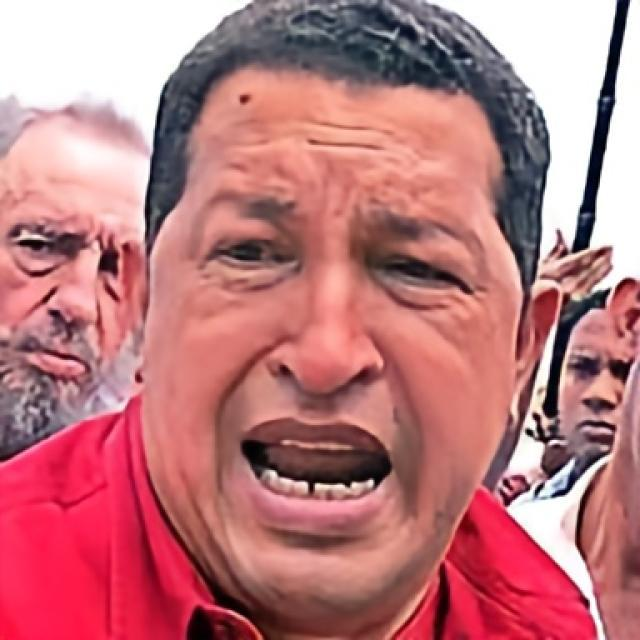anger: (148, 60, 527, 616), (0, 130, 147, 438)
